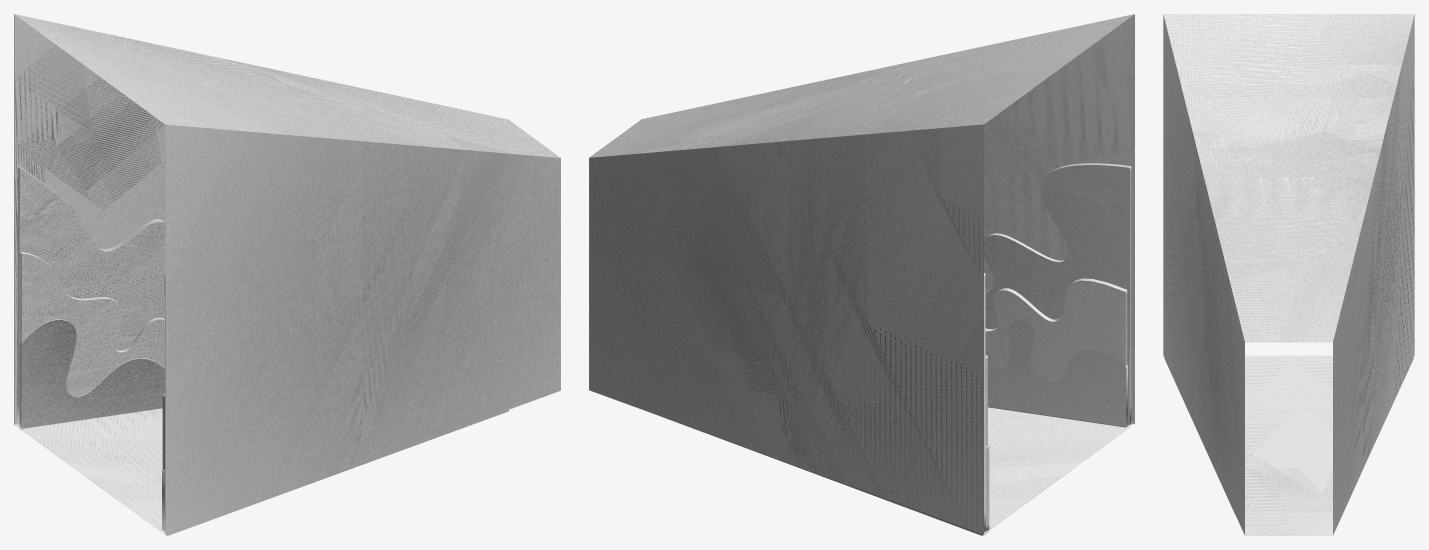
File: superArchitetture222.fbx
The picture shows the model from 3 angles, left to right: view 1: azimuth 30°, elevation 25°; view 2: azimuth 150°, elevation 25°; view 3: azimuth 270°, elevation 25°; orthographic projection. The views are drawn at different scales.
Parts seen in each view (by area): view 1: Curve.010; view 2: Curve.010; view 3: Curve.010.
Part boxes in pixels (bbox=[...]): Curve.010: bbox=[14, 14, 560, 535]; Curve.010: bbox=[589, 14, 1134, 535]; Curve.010: bbox=[1163, 14, 1414, 535].
Size of the model in its own units: 3.4 by 3.02 by 2.
